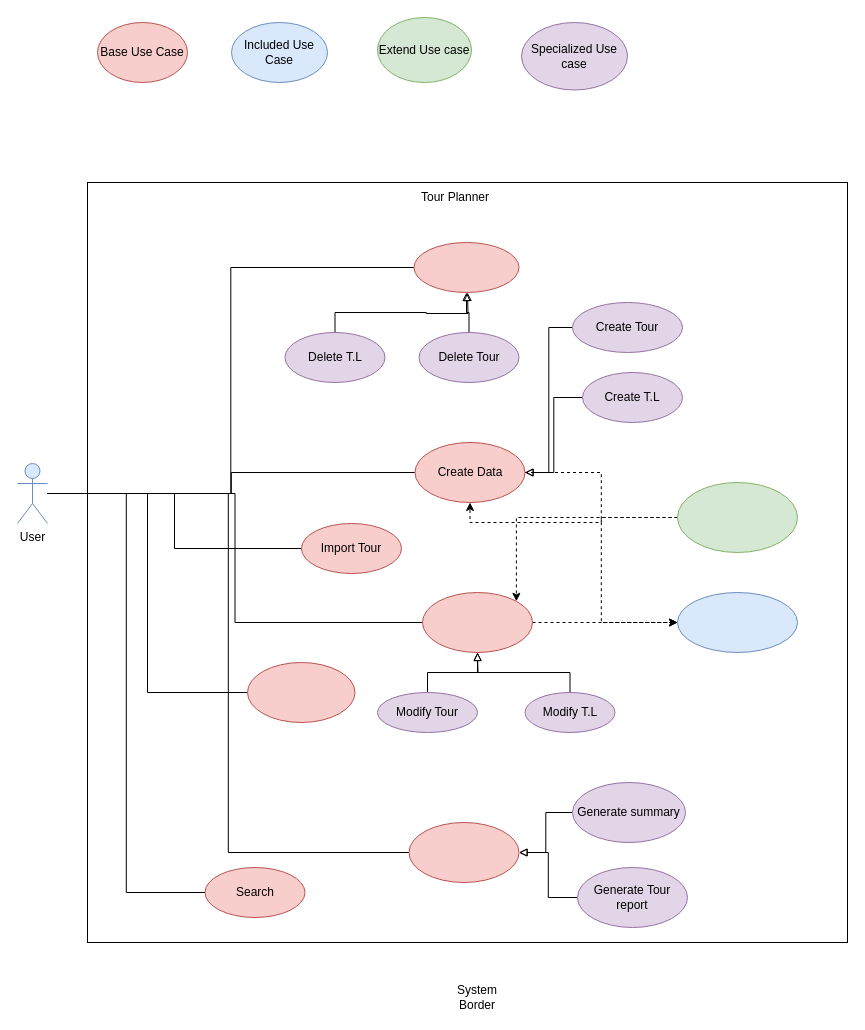
Some shapes in this 865 by 1030 pixel diagram are drawn without their labels. The centre of each missing label's shape, as x and y in pixels:
"Delete Data" belongs at pixel 466 267.
"Display Error Message" belongs at pixel 737 517.
"Export Tour" belongs at pixel 300 692.
"Generate Reports" belongs at pixel 463 852.
"Modify Data" belongs at pixel 477 622.
"Verify User Input" belongs at pixel 737 622.
